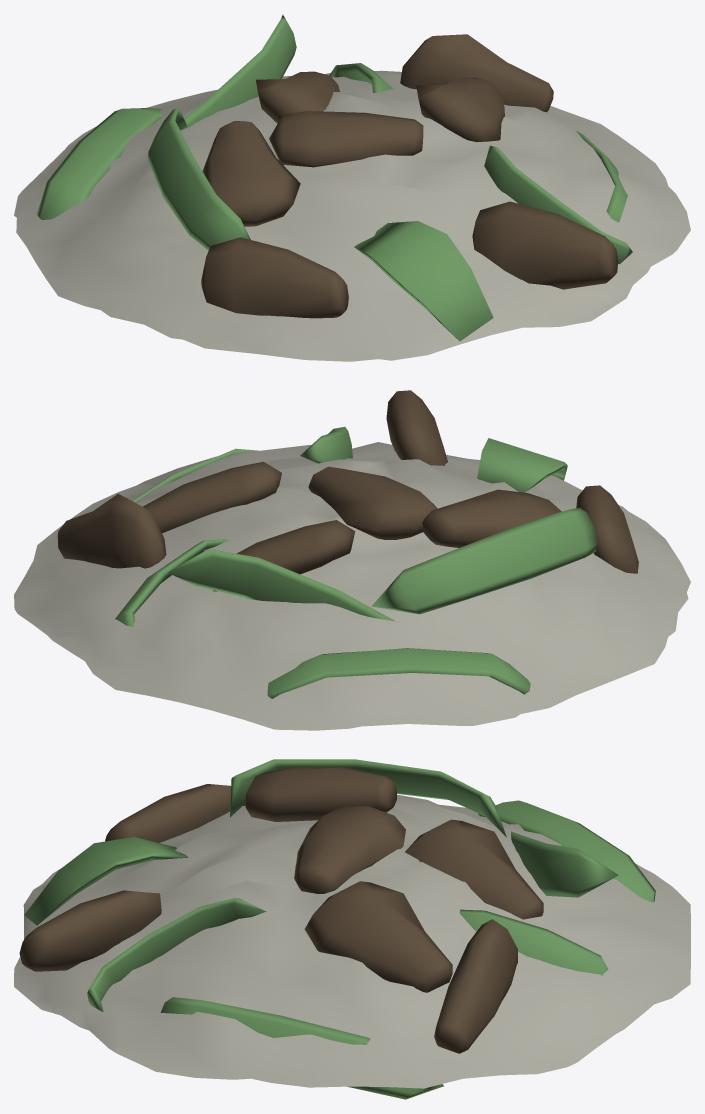
File: dish_L2_japchae.fbx
3 views of the same model, one above another, from view 1: azimuth 30°, elevation 25°; view 2: azimuth 150°, elevation 25°; view 3: azimuth 270°, elevation 25° (orthographic). The views are drawn at different scales.
Visible parts, largest first — view 1: dish_L2_japchae; view 2: dish_L2_japchae; view 3: dish_L2_japchae.
Part boxes in pixels (box(x1,y1,x2,y2)): dish_L2_japchae: box(14, 14, 690, 361); dish_L2_japchae: box(14, 390, 690, 730); dish_L2_japchae: box(14, 759, 690, 1099).
Size of the model in its own units: 0.9126 by 0.21 by 0.8879.
